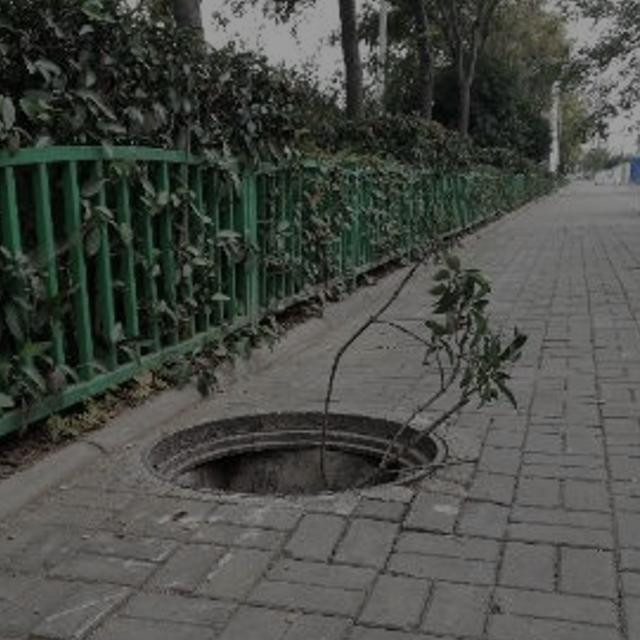lose: (139, 413, 444, 500)
